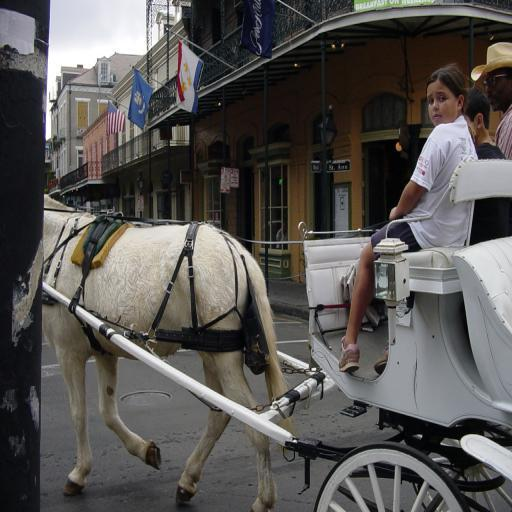horse: (42, 192, 295, 512)
